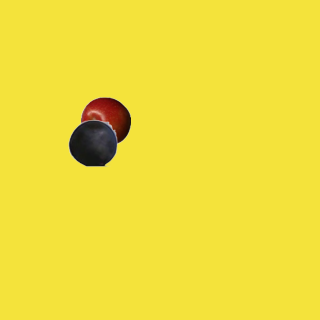Apple Braeburn: (80, 96, 130, 146)
Grape Blue: (67, 117, 117, 167)
